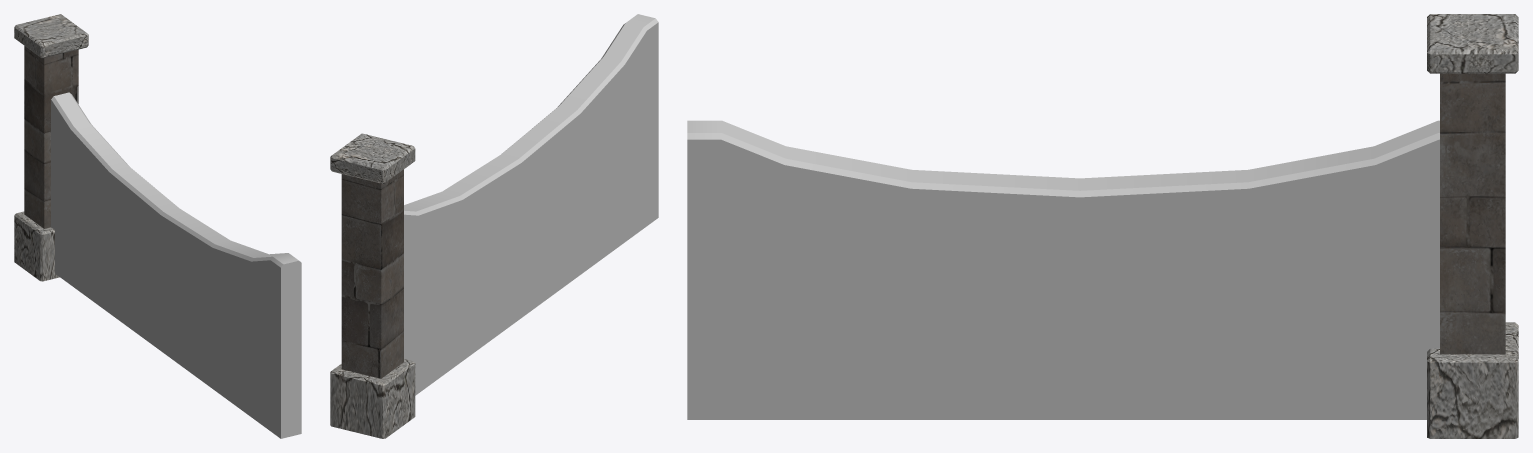
File: GYWall.fbx
The picture shows the model from 3 angles, left to right: view 1: azimuth 30°, elevation 25°; view 2: azimuth 150°, elevation 25°; view 3: azimuth 270°, elevation 25°; orthographic projection. The views are drawn at different scales.
Parts seen in each view (by area): view 1: GraveyardWall; view 2: GraveyardWall; view 3: GraveyardWall.
Part boxes in pixels (bbox=[...]): GraveyardWall: bbox=[14, 14, 301, 438]; GraveyardWall: bbox=[330, 14, 658, 438]; GraveyardWall: bbox=[687, 14, 1518, 438].
Bounding box in the file's own units: 3.5 × 16.34 × 31.75.
